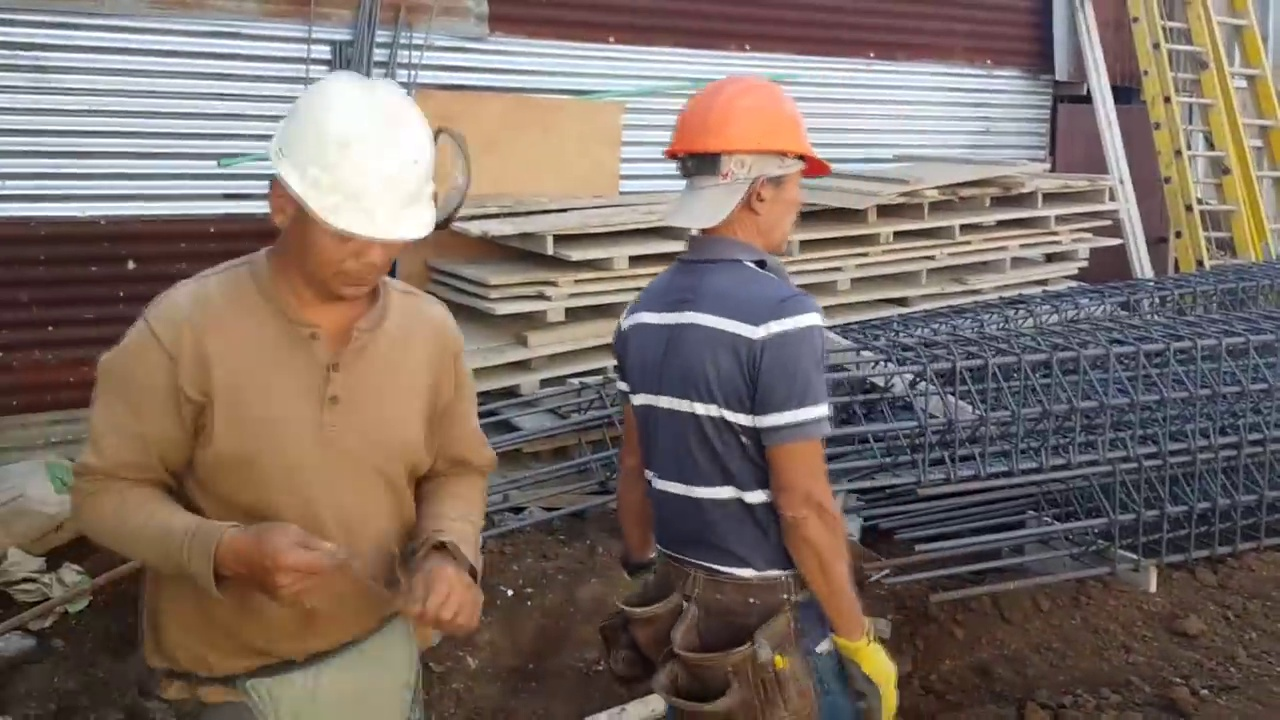helmet: (274, 75, 443, 241), (657, 73, 833, 185)
helmet-on: (249, 75, 441, 338), (655, 70, 838, 268)
person: (55, 47, 528, 720), (610, 72, 904, 720)
